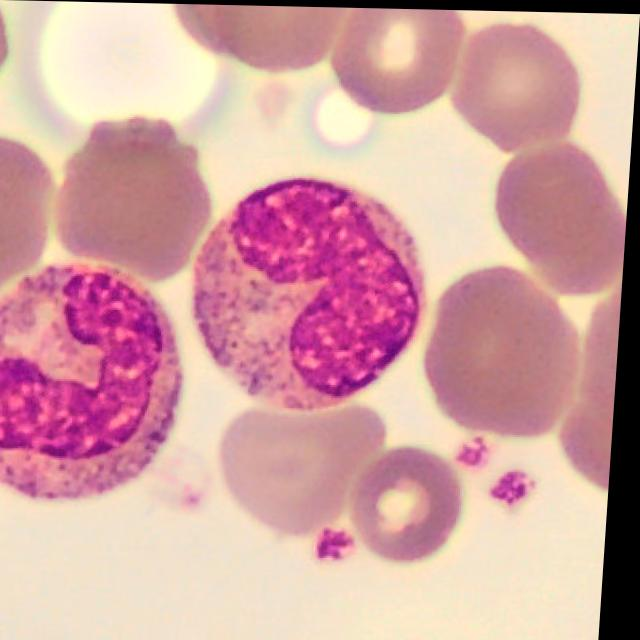Bastonete: (196, 175, 429, 408)
Neutrofilo segmentado: (0, 261, 188, 500)
